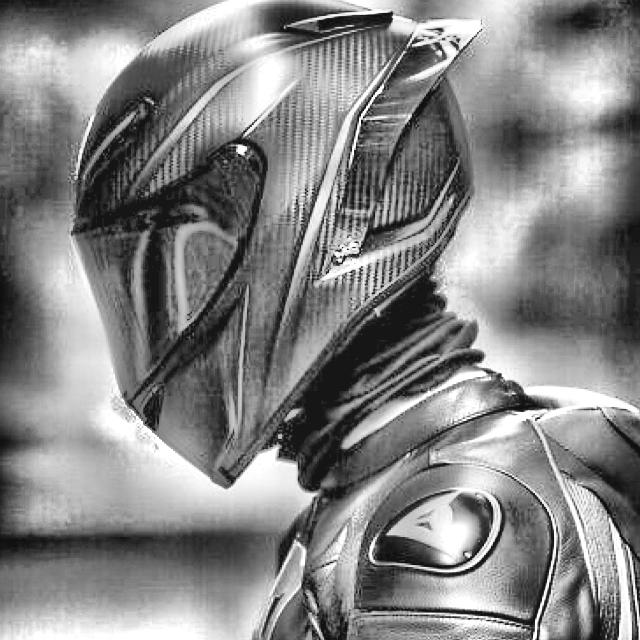Helmet: (53, 0, 489, 486)
